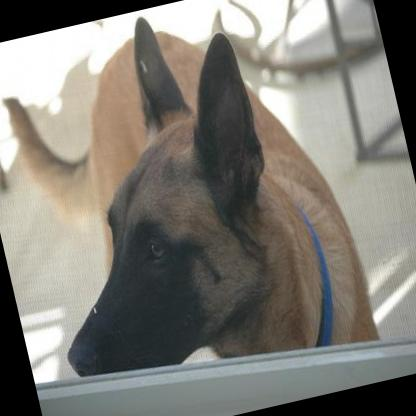malinois: (0, 0, 380, 411)
